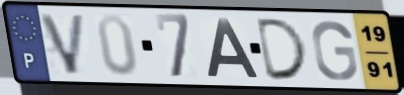0: (95, 12, 139, 78)
7: (153, 11, 192, 82)
A: (204, 17, 261, 80)
D: (254, 16, 312, 82)
G: (309, 19, 360, 83)
V: (37, 11, 89, 76)
